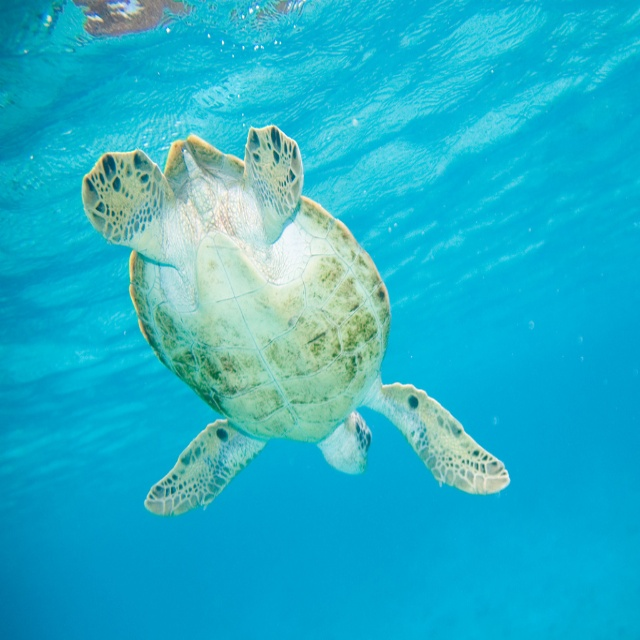Sea turtle: (80, 124, 513, 521)
